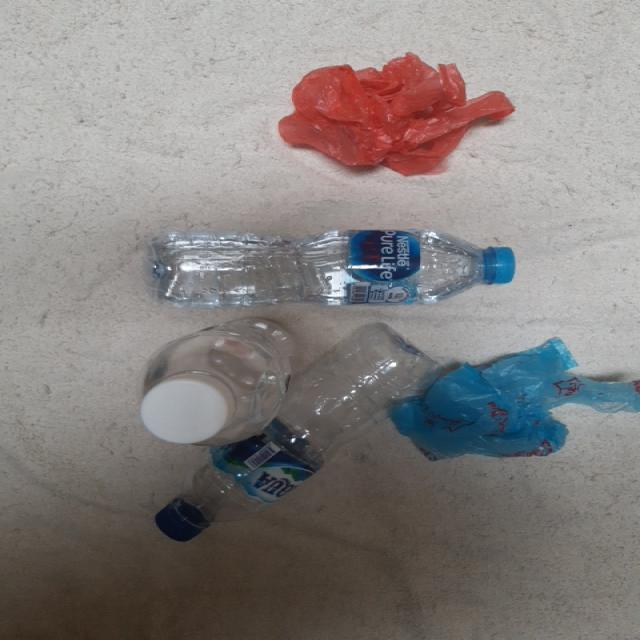Single-layer Plastic: (391, 338, 640, 459), (279, 54, 514, 175)
